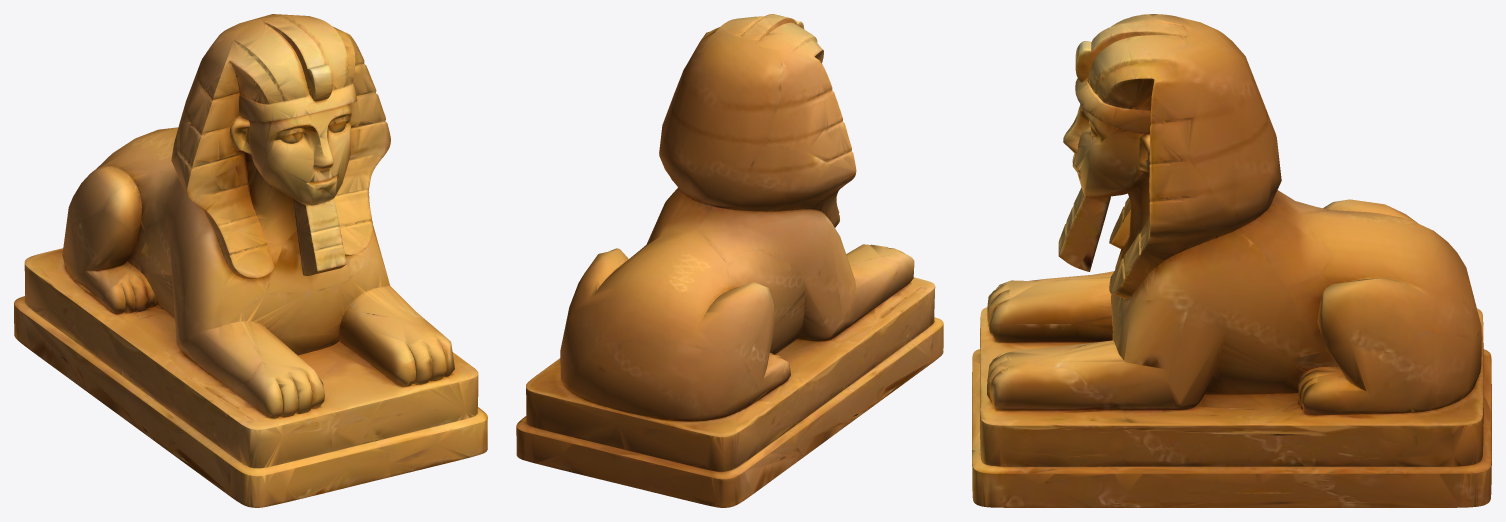
Rendered from sphinx_pbr.glb.
3 views of the same model, side by side, from view 1: azimuth 30°, elevation 25°; view 2: azimuth 150°, elevation 25°; view 3: azimuth 270°, elevation 25° (orthographic). The views are drawn at different scales.
Visible parts, largest first — view 1: model; view 2: model; view 3: model.
Boxes of the visible parts, <box> form: model: <box>14,14,487,507</box>; model: <box>516,14,943,507</box>; model: <box>972,14,1491,507</box>.
Size of the model in its own units: 1.05 by 1.61 by 1.81.
1 material, 1 textured.
